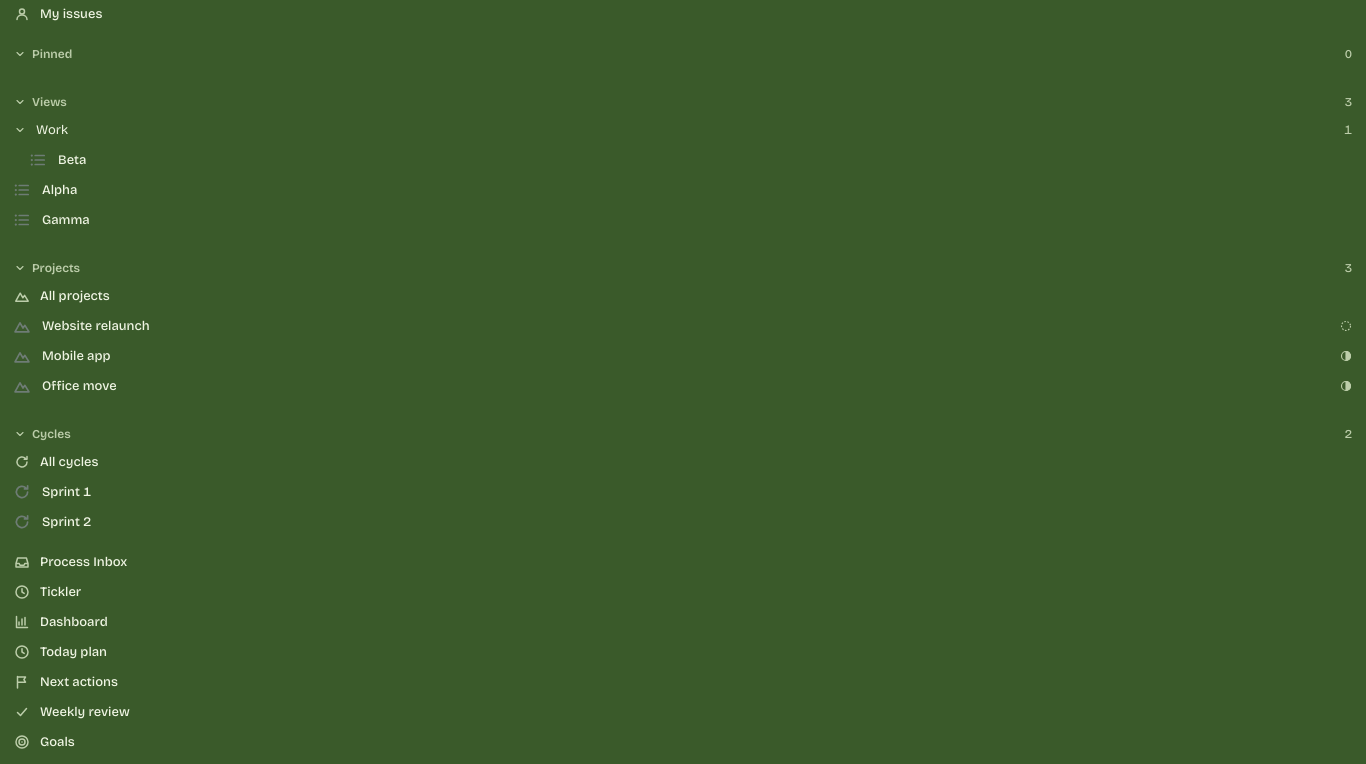
Sidebar folders › collapses a folder and remembers it on this device
This screenshot has width=1366, height=764.
Click the button with class "folder" at (52, 130), box x1=8 y1=116 x2=1358 y2=144
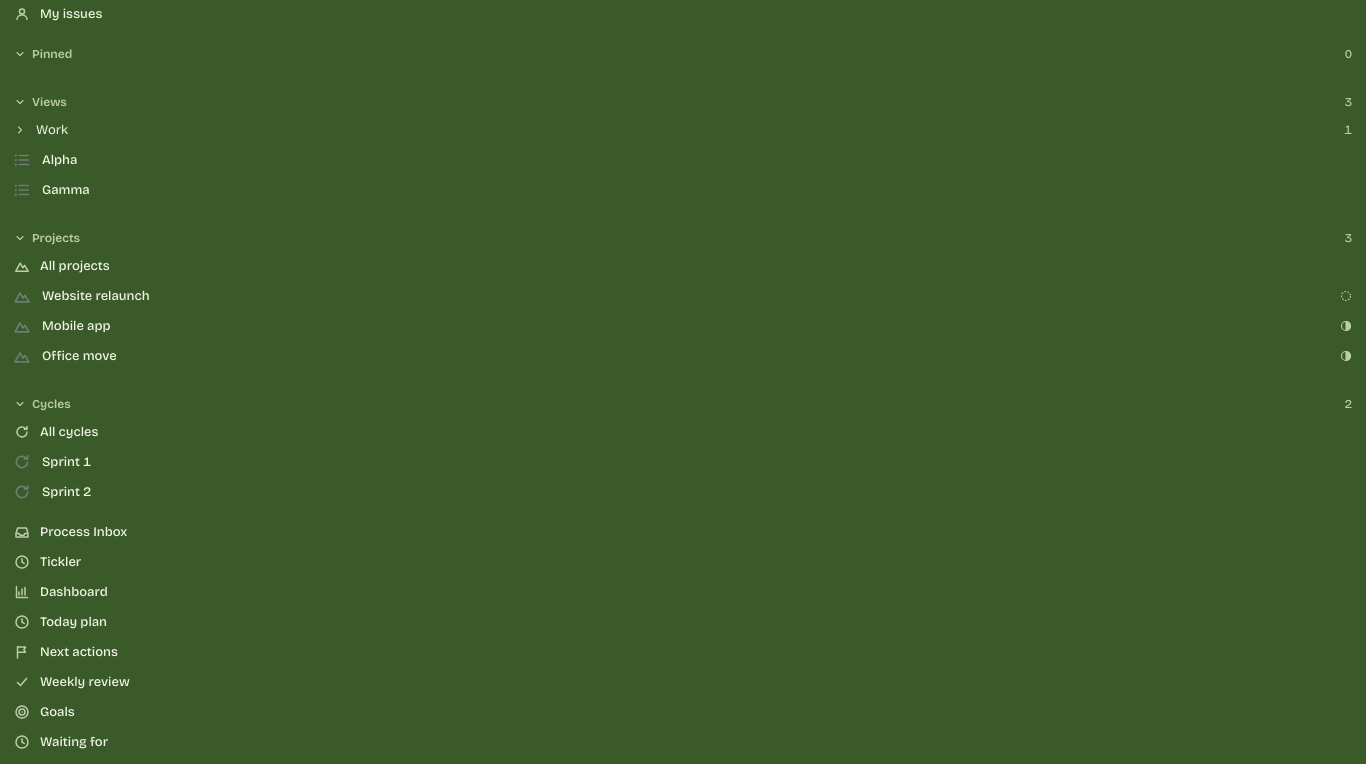
Now the text "Beta" is gone
